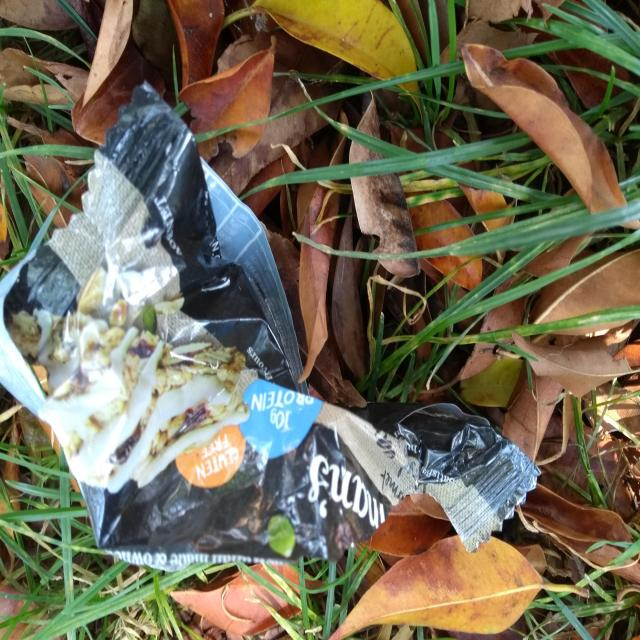litter: (1, 79, 538, 565)
